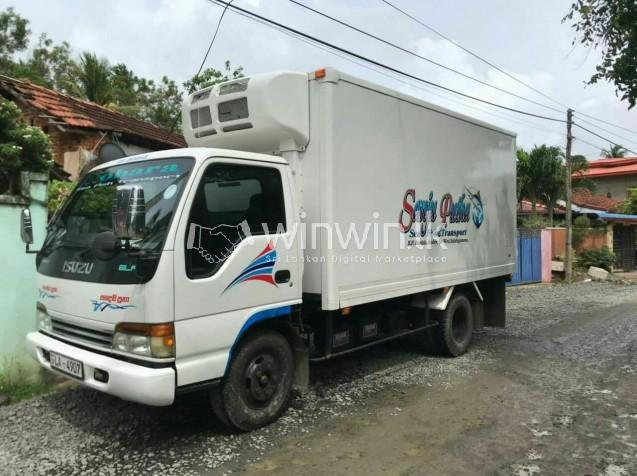truck: (21, 66, 516, 432)
